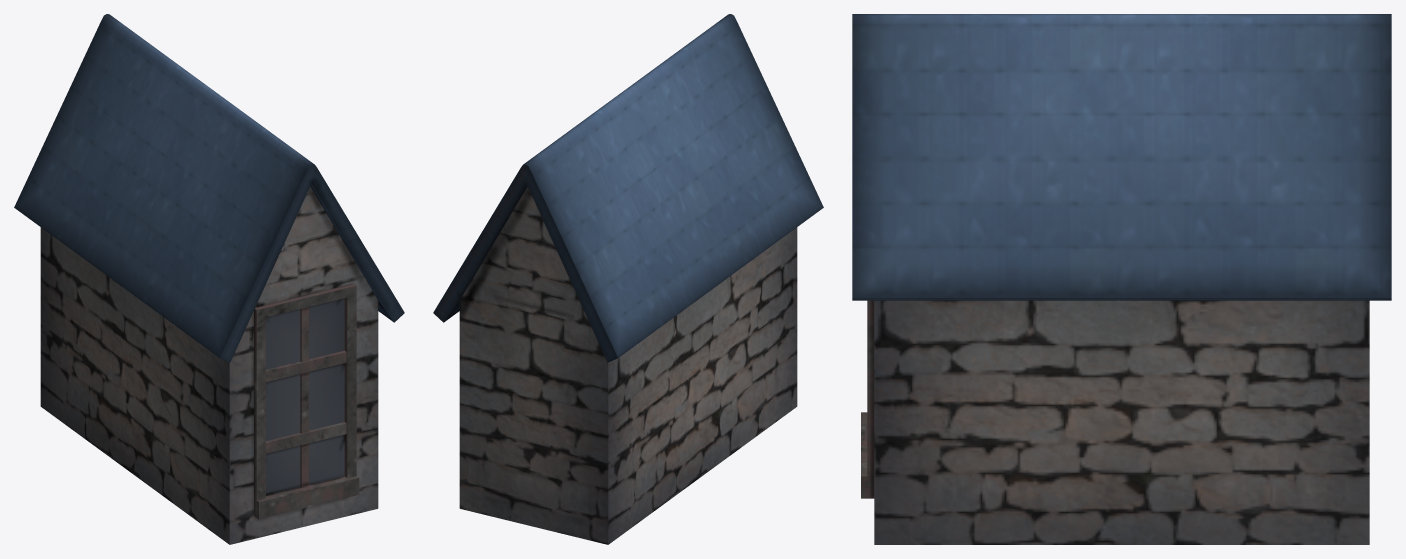
The model's file is sb_obj_outdoor002_DemonsCastle01_hut01.fbx.
3 views of the same model, side by side, from view 1: azimuth 30°, elevation 25°; view 2: azimuth 150°, elevation 25°; view 3: azimuth 270°, elevation 25° (orthographic). The views are drawn at different scales.
Visible parts, largest first — view 1: sb_obj_outdoor002_DemonsCastle01_hut01; view 2: sb_obj_outdoor002_DemonsCastle01_hut01; view 3: sb_obj_outdoor002_DemonsCastle01_hut01.
Boxes of the visible parts, <box> form: sb_obj_outdoor002_DemonsCastle01_hut01: <box>14,14,404,544</box>; sb_obj_outdoor002_DemonsCastle01_hut01: <box>433,14,823,544</box>; sb_obj_outdoor002_DemonsCastle01_hut01: <box>852,14,1391,544</box>.
Size of the model in its own units: 1.09 by 2.07 by 2.09.
